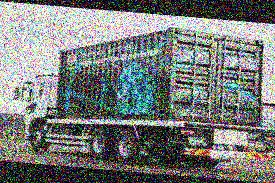truck: (21, 15, 268, 174)
